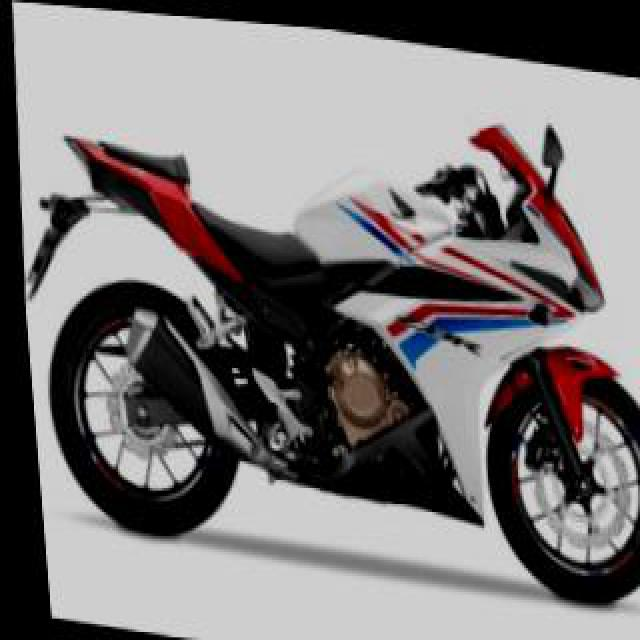CBR500R: (2, 45, 638, 611)
